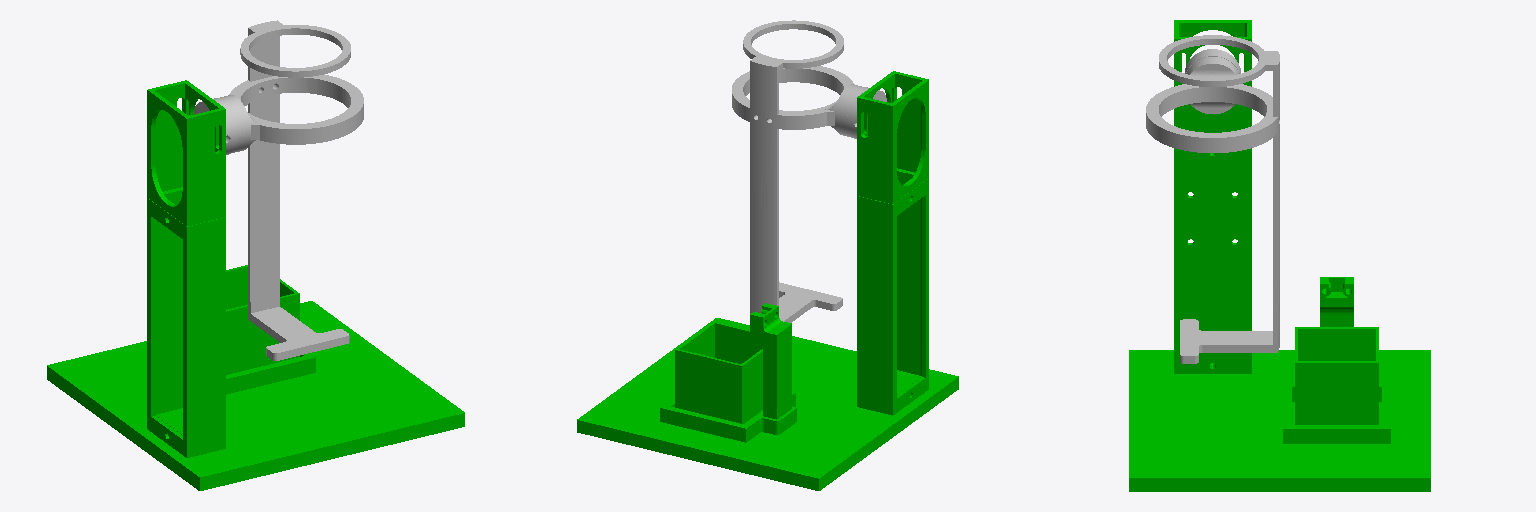
URDF robot description (water_maxi):
<?xml version="1.0"?>
<robot name="water_maxi">

  <link name="world"/>

  <link name="base_link">
    <visual name="base">
      <geometry>
        <mesh filename="package://water_maxi_description/models/Base_Link.stl" scale="0.01 0.01 0.01"/>
      </geometry>
      <material name="green">
        <color rgba="0 0.8 0 1"/>
      </material>
    </visual>
  </link>

  <joint name="world_to_Base" type="fixed">
    <parent link="world"/>
    <child link="base_link"/>
    <origin xyz="0 0 0" rpy="0 0 0"/>
    <axis xyz="0 0 0"/>
  </joint>

  <link name="arm_link1">
    <visual>
      <geometry>
        <mesh filename="package://water_maxi_description/models/SchwenkArm_Link.stl" scale="0.01 0.01 0.01"/>        
      </geometry>   
      <material name="grey">
        <color rgba="0.8 0.8 0.8 1"/>
      </material>   
    </visual>
  </link>

  <joint name="base_to_schwenkarm" type="continuous">
    <parent link="base_link"/>
    <child link="arm_link1"/>    
    <origin xyz="-0.55 0 2" rpy="0.0 1.57 -1.57"/>    
  </joint>

</robot>

--- Render facts (derived) ---
Views: 3 orthographic renders of the robot side by side, from view 1: azimuth 30°, elevation 25°; view 2: azimuth 150°, elevation 25°; view 3: azimuth 270°, elevation 25°.
Robot: water_maxi — 3 links, 2 joints (1 continuous, 1 fixed); root link world; default pose: every joint at zero.
Links seen in each view (by area): view 1: base_link, arm_link1; view 2: base_link, arm_link1; view 3: base_link, arm_link1.
Boxes of the visible links, bbox=[...] form: base_link: bbox=[47, 80, 464, 490]; arm_link1: bbox=[194, 20, 363, 360]; base_link: bbox=[577, 71, 958, 490]; arm_link1: bbox=[732, 20, 886, 322]; base_link: bbox=[1129, 20, 1430, 491]; arm_link1: bbox=[1146, 35, 1279, 363].
Bounding box of the posed robot: 1.8 × 1.8 × 2.45 m (x, y, z).
Meshes: 2 distinct files referenced, 2 mesh visuals loaded (2 binary STL).